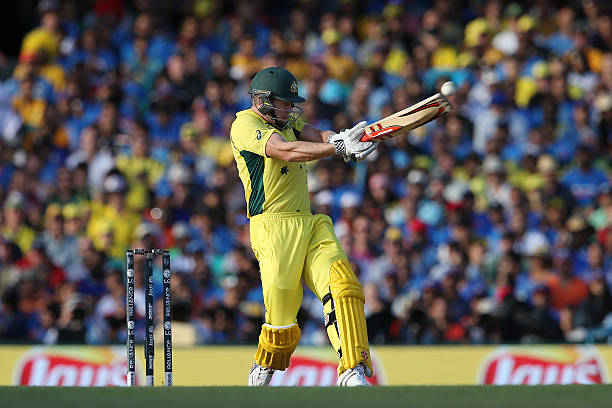bottom left: (430, 90, 446, 101)
bottom right: (446, 103, 458, 113)
top left: (360, 121, 371, 135)
top right: (375, 136, 385, 147)
